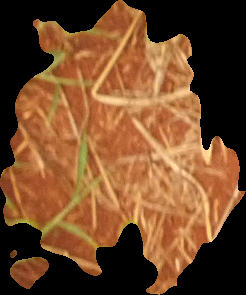soil: (3, 2, 243, 291)
